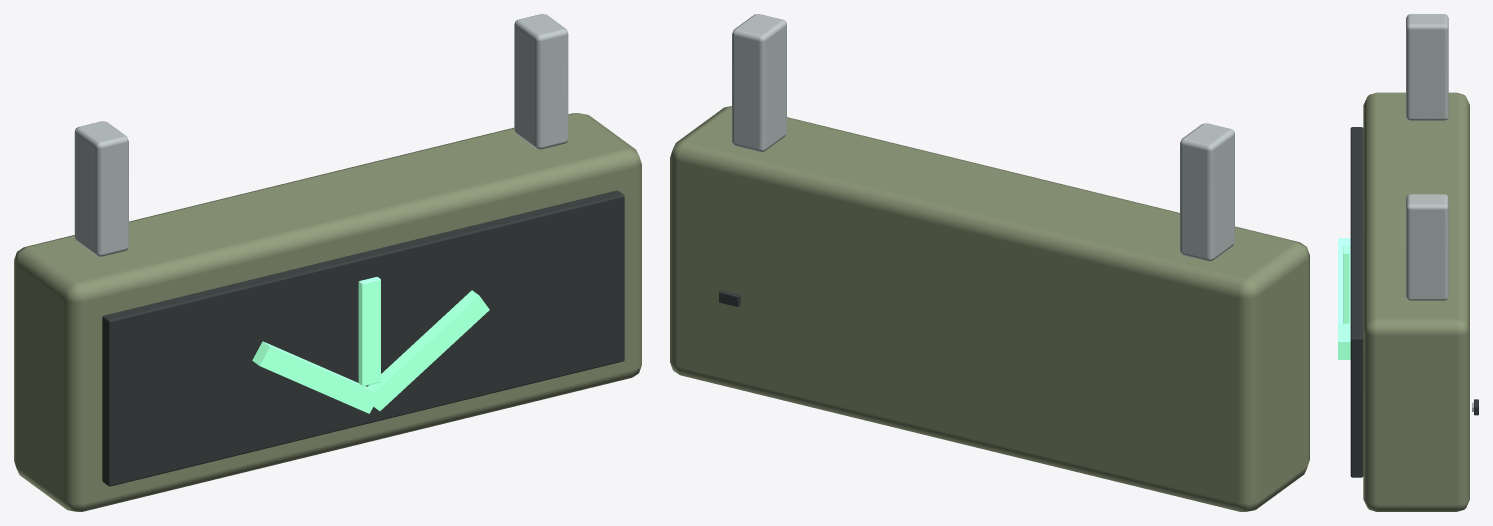
The model's file is mountain-border-checkpoint-mountain-border-checkpoint--b052a3fe__30318.glb.
3 views of the same model, side by side, from view 1: azimuth 30°, elevation 25°; view 2: azimuth 150°, elevation 25°; view 3: azimuth 270°, elevation 25° (orthographic). The views are drawn at different scales.
Visible parts, largest first — view 1: mountain-border-checkpoint-overhead-lane-indicator; view 2: mountain-border-checkpoint-overhead-lane-indicator; view 3: mountain-border-checkpoint-overhead-lane-indicator.
Boxes of the visible parts, <box> form: mountain-border-checkpoint-overhead-lane-indicator: <box>14,14,641,511</box>; mountain-border-checkpoint-overhead-lane-indicator: <box>670,14,1309,511</box>; mountain-border-checkpoint-overhead-lane-indicator: <box>1338,14,1478,511</box>.
Bounding box in the file's own units: 1.05 × 0.6 × 0.264.
